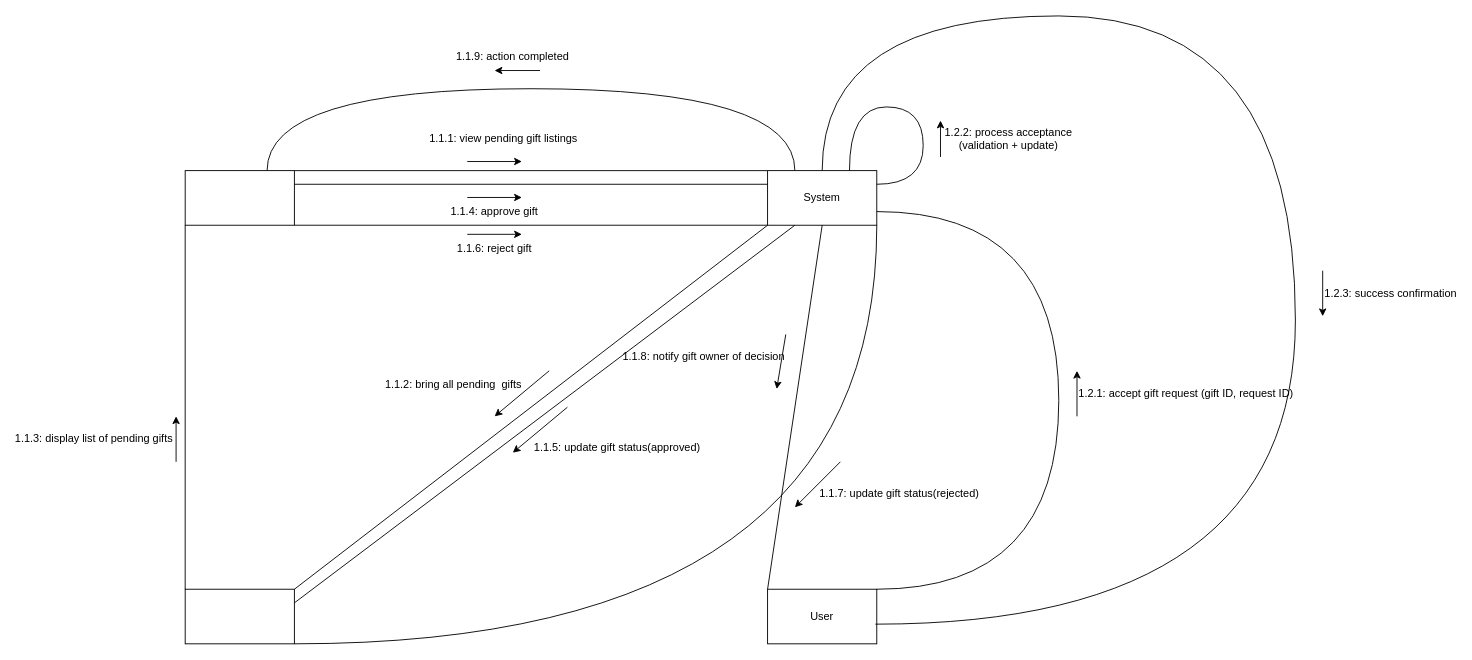
Image size: 1472x660. Some labels were removed from this diagram. Each missing label, with the centre of its shape:
"Admin" goes at pixel 239 197.
"Database" goes at pixel 239 616.
